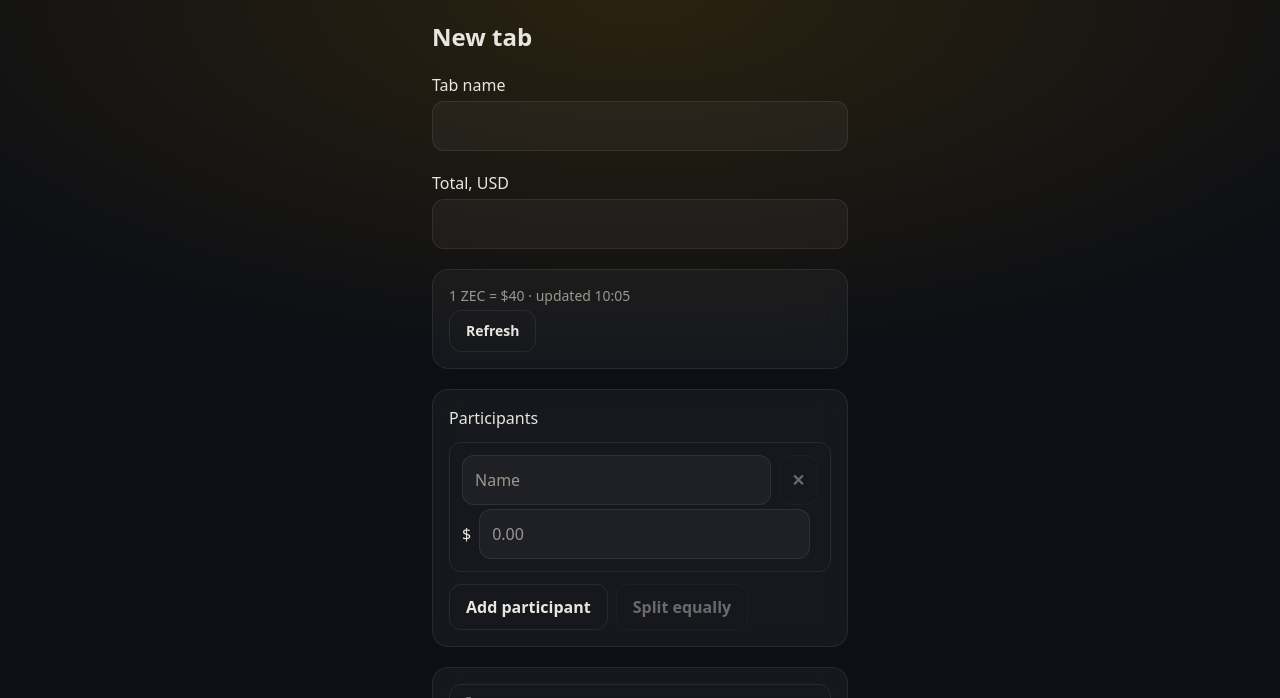
Test case: NewTab › Create disabled until every condition holds
Expected: the text "1 ZEC = $40 · updated 10:05" is shown, [449,286,630,305]
Type "Dinner" into the field labelled "Tab name". click: coordinates (640, 126)
box: [432,101,848,151]
Type "50.00" into the field labelled "Total, USD". click: coordinates (640, 224)
box: [432,199,848,249]
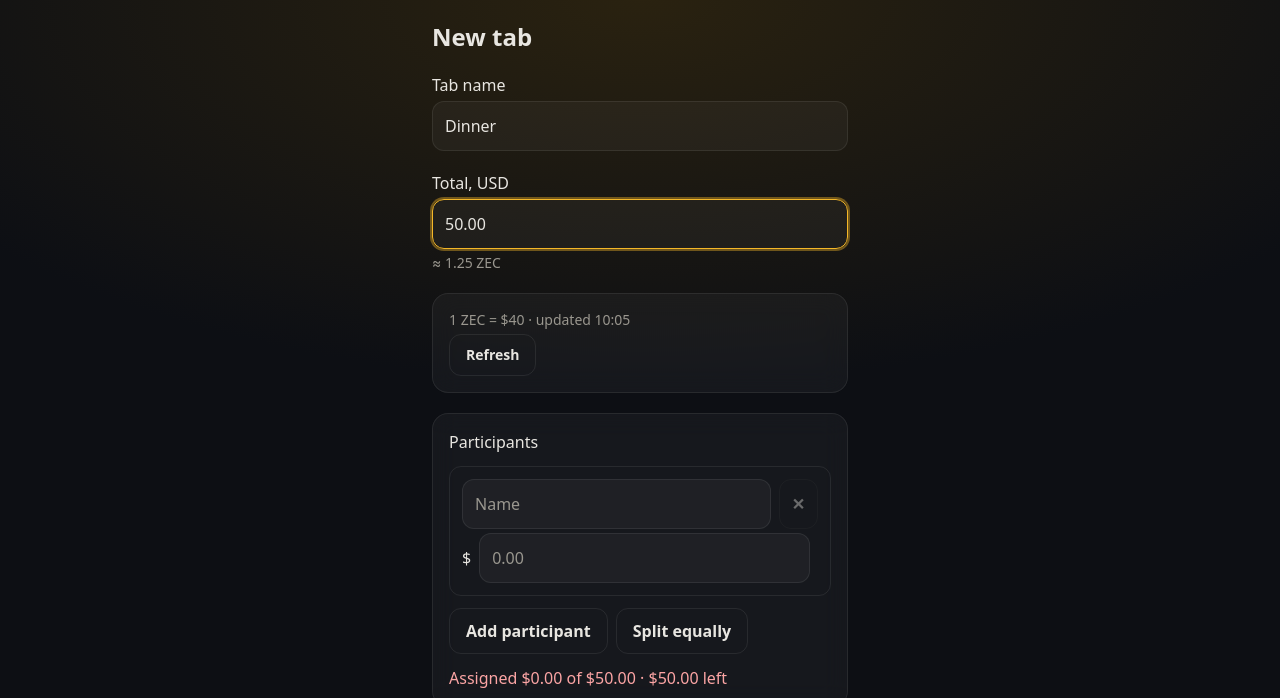
Now the text "≈ 1.25 ZEC" is shown, box [432,253,501,272]
Type "Ann" into the field named "Name 1". click: coordinates (616, 504)
box: [462,479,771,529]
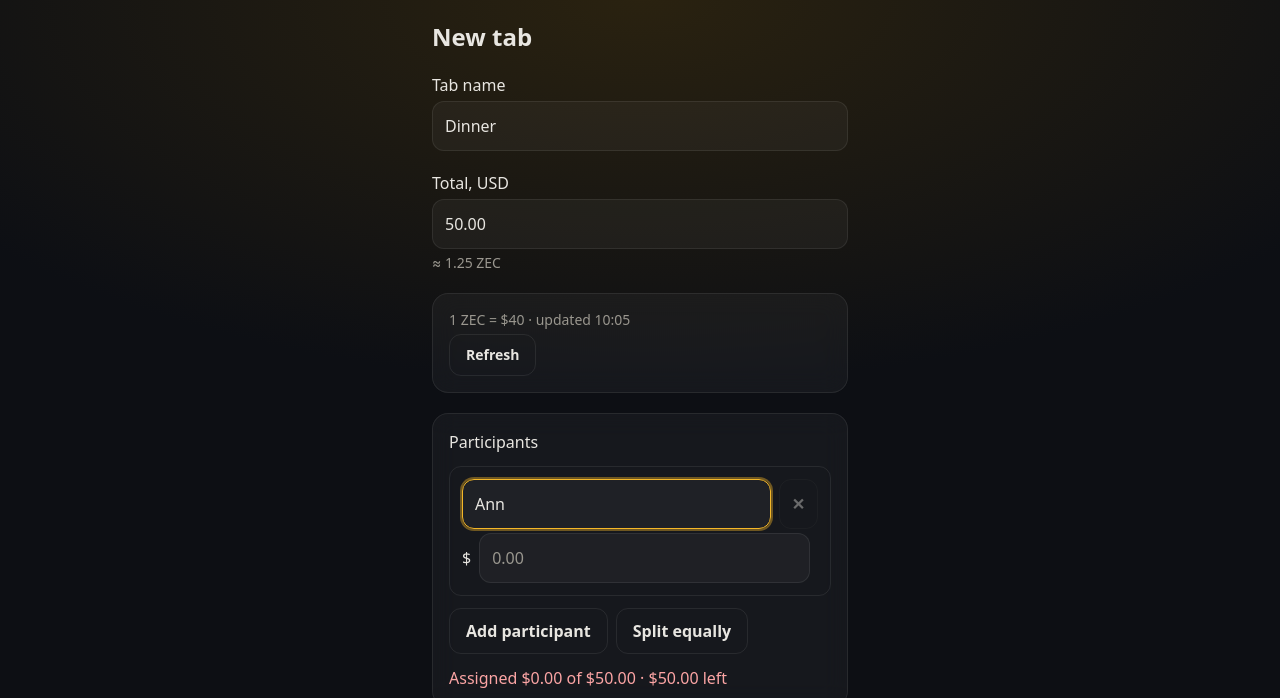
Type "50.00" into the field named "Share USD 1". click: coordinates (645, 558)
box: [479,533,810,583]
(page scrolled)
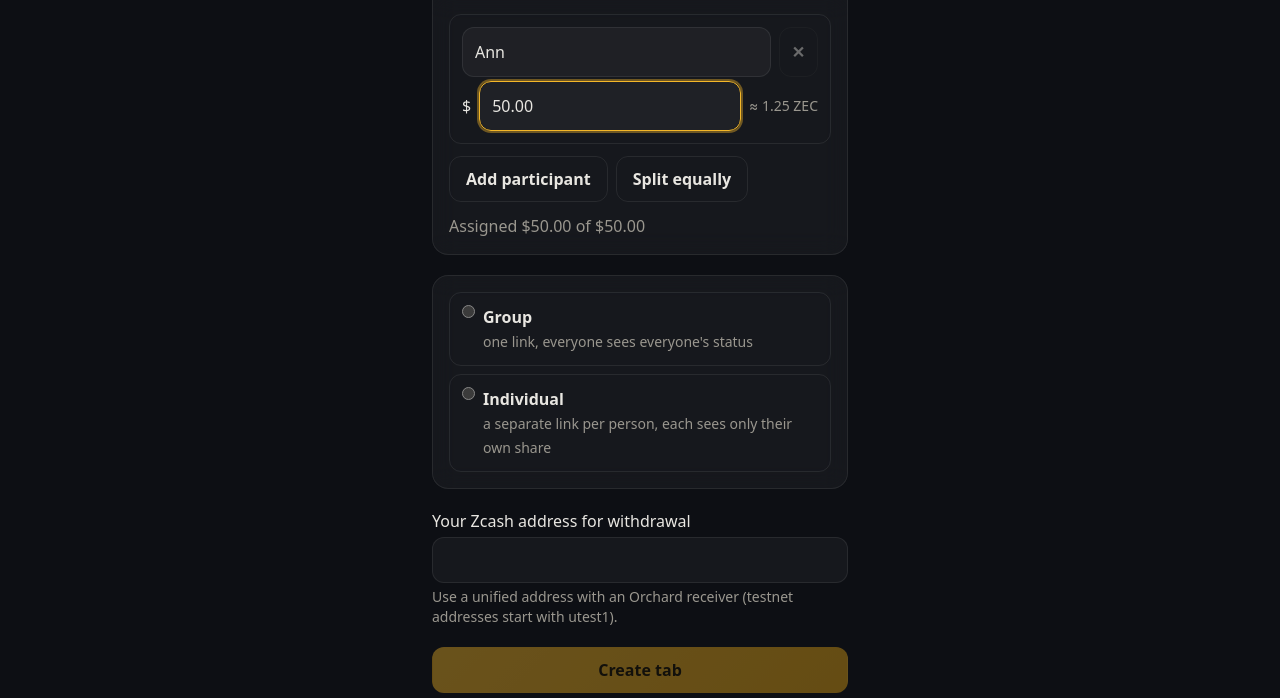
Expected: the button "Create tab" is disabled, [432,647,848,693]
Click the radio button labelled "Individual". click: coordinates (468, 394)
box: [462,387,475,400]
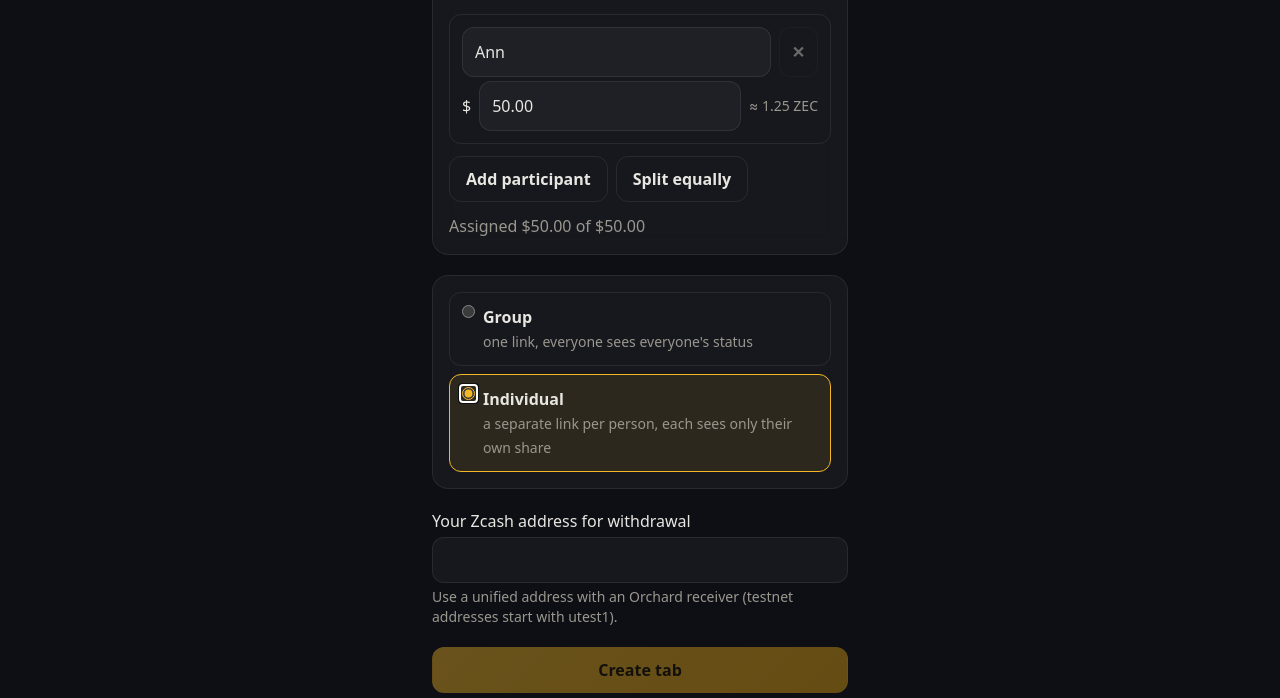
Expected: the button "Create tab" is disabled, [432,647,848,693]
Type "utest1abc" into the field labelled "Your Zcash address for withdrawal". click: coordinates (640, 560)
box: [432,537,848,583]
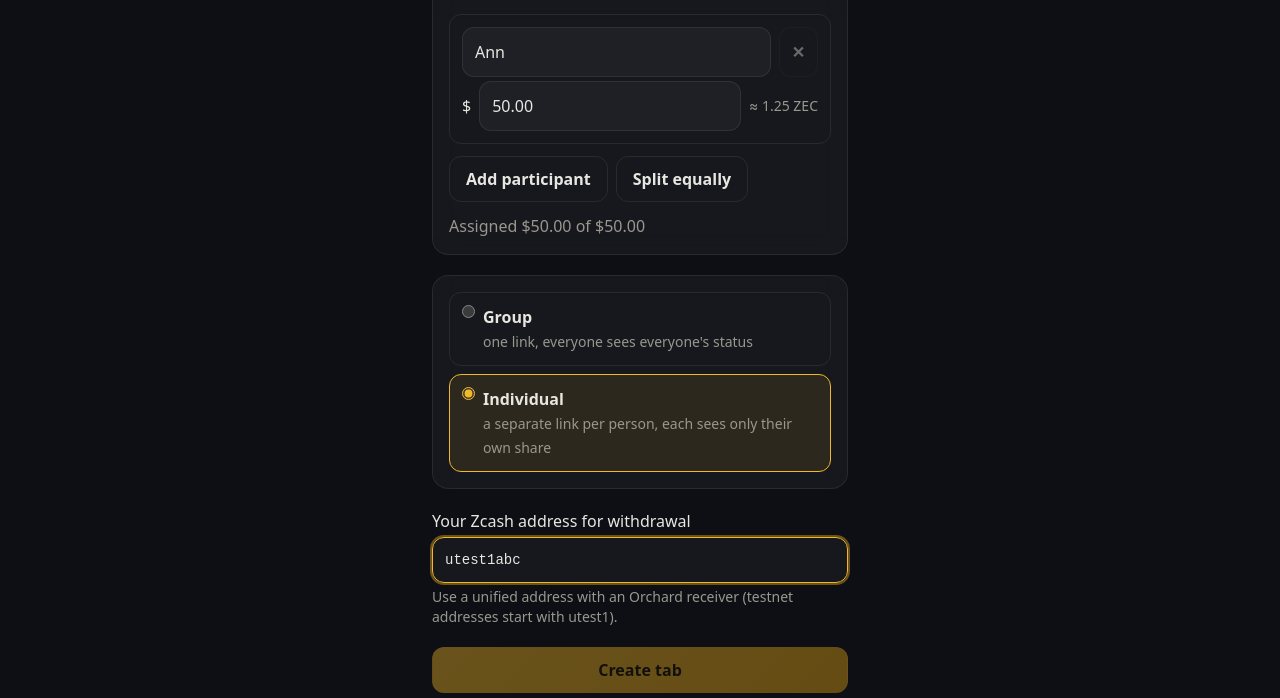
Press Tab
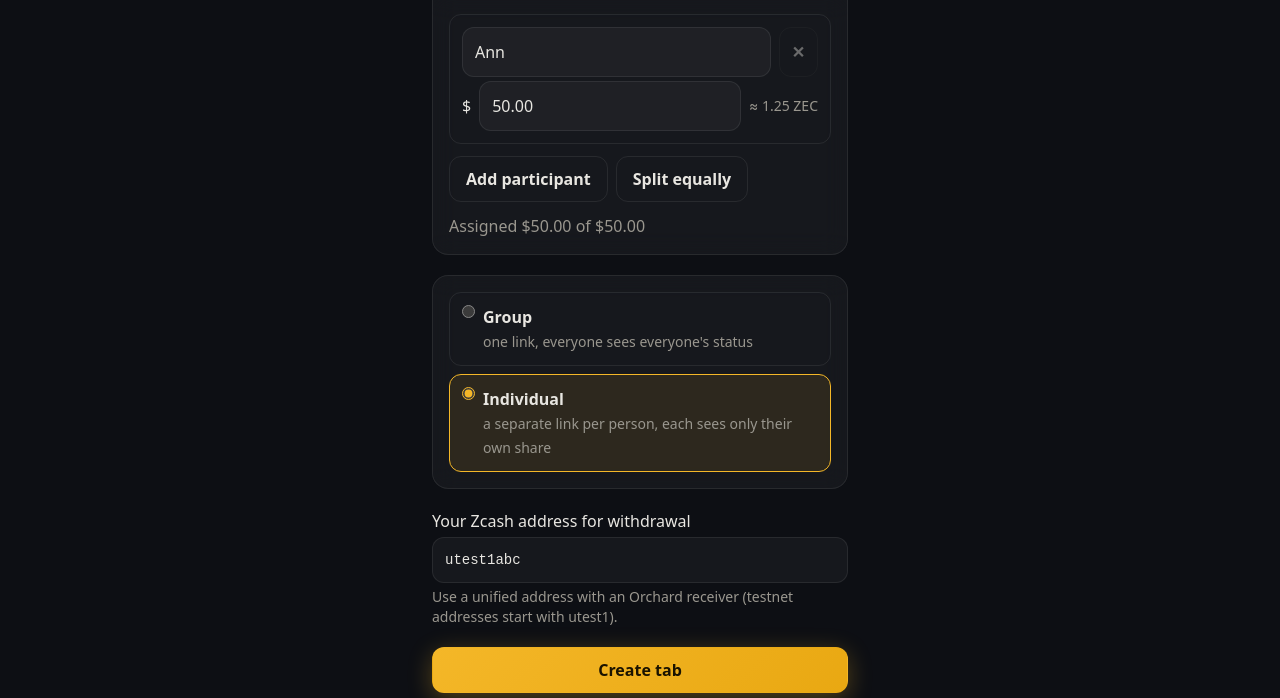
Now the button "Create tab" is enabled, box [432,647,848,693]
